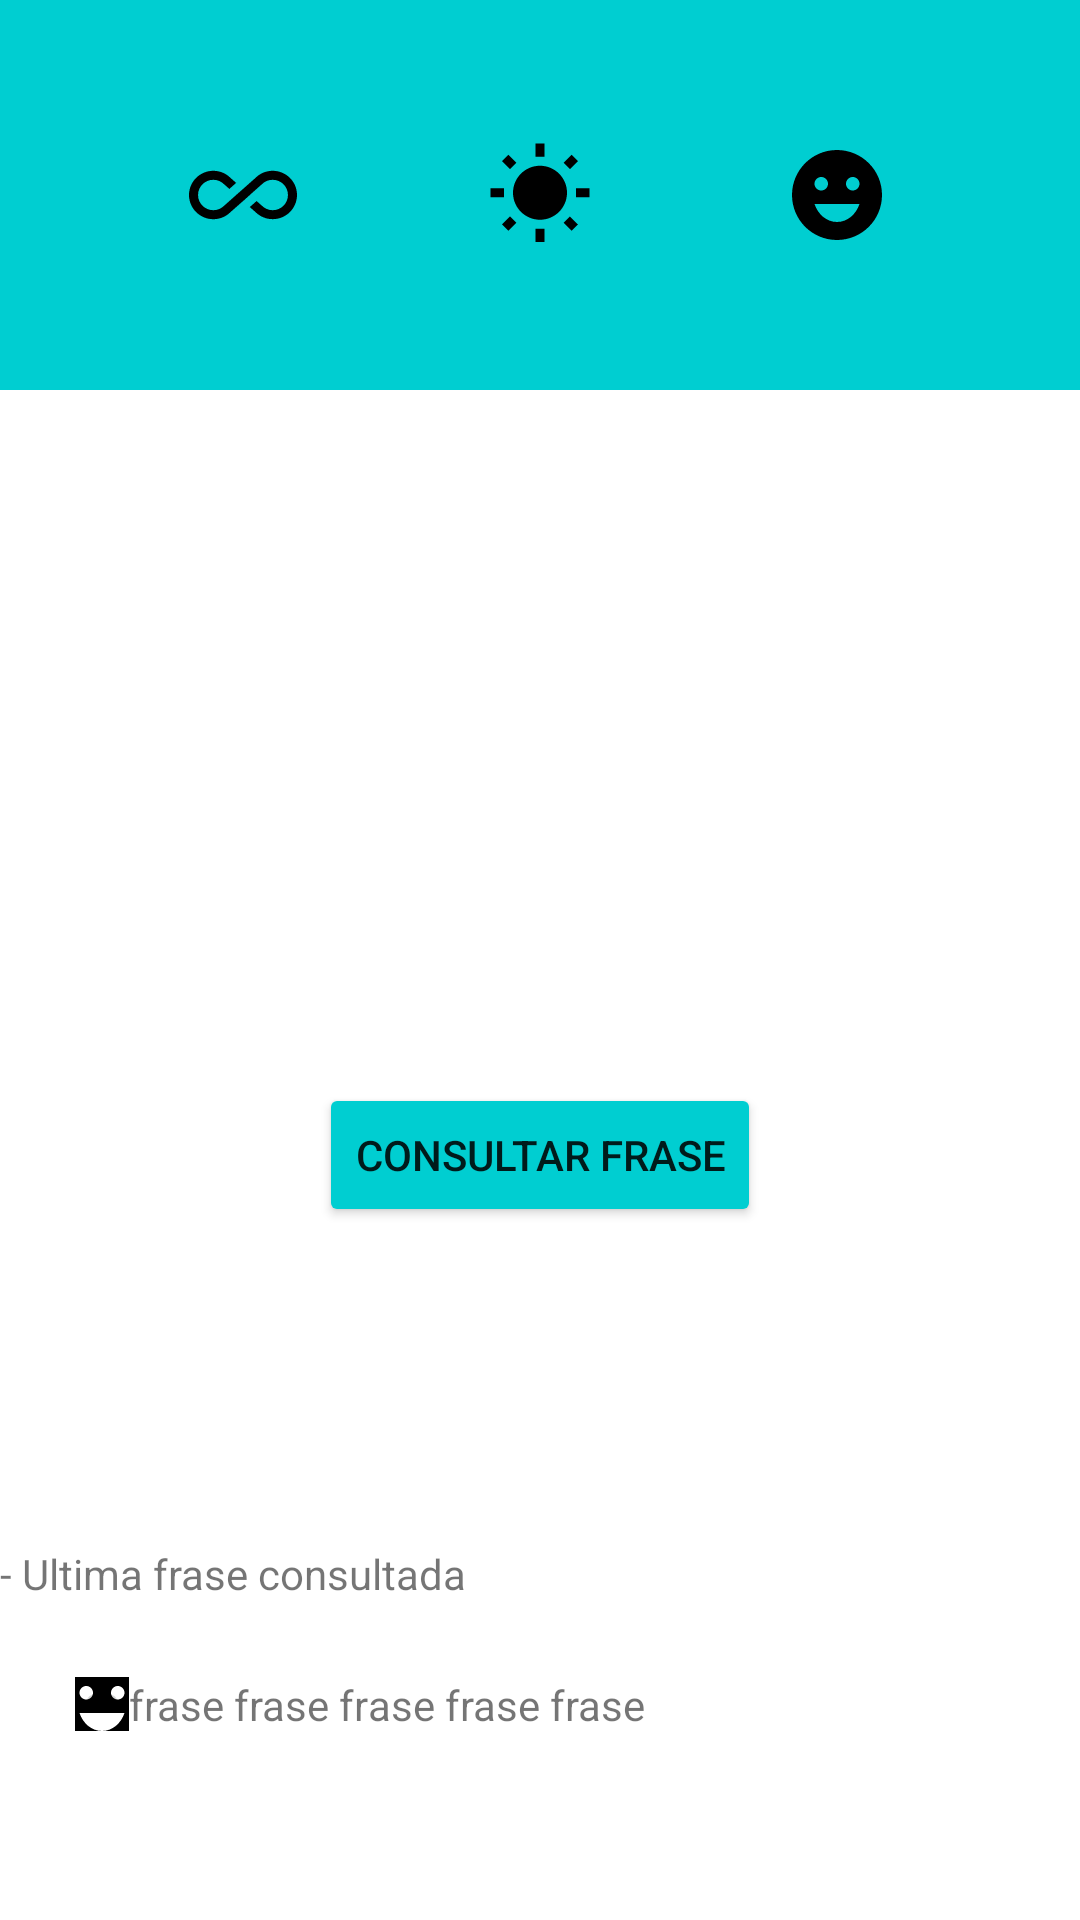

Where icons sit on this 1080 × 1920 app screen, as BBox(x1, y1, x2, y2):
all: BBox(189, 170, 297, 220)
emoji: BBox(792, 150, 882, 240), BBox(75, 1677, 129, 1731)
sunny: BBox(490, 143, 590, 242)
